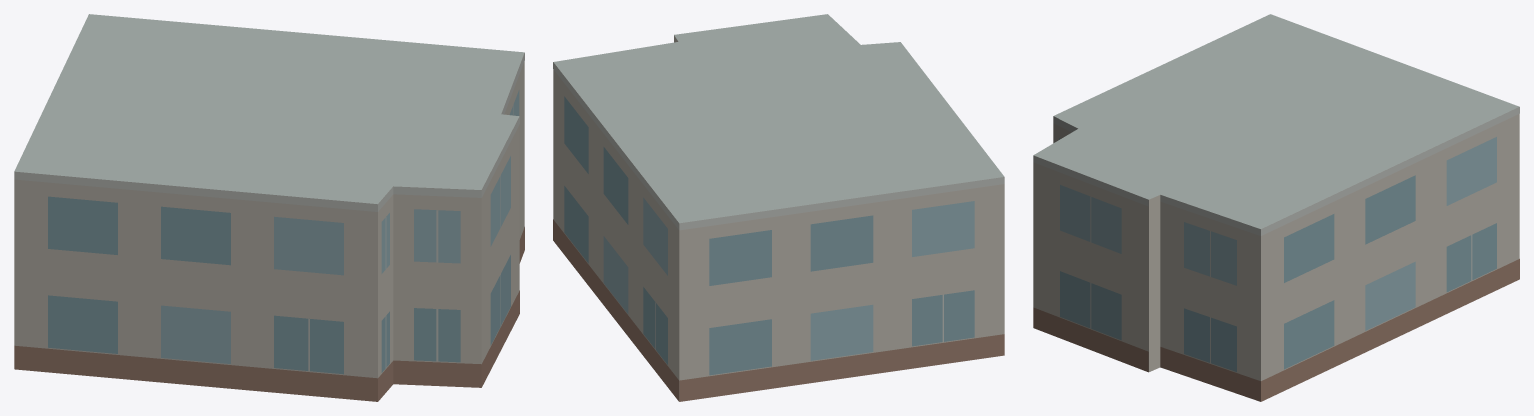
Rendered from survey-upis-32606341.glb.
3 views of the same model, side by side, from view 1: azimuth 30°, elevation 25°; view 2: azimuth 150°, elevation 25°; view 3: azimuth 270°, elevation 25° (orthographic). The views are drawn at different scales.
Parts seen in each view (by area): view 1: survey-upis-32606341.tmp; view 2: survey-upis-32606341.tmp; view 3: survey-upis-32606341.tmp.
Boxes of the visible parts, x1,y1,x2,y2 form: survey-upis-32606341.tmp: (14,14,524,401); survey-upis-32606341.tmp: (553,14,1004,401); survey-upis-32606341.tmp: (1033,14,1519,401).
Size of the model in its own units: 16.32 by 6.1 by 15.59.
